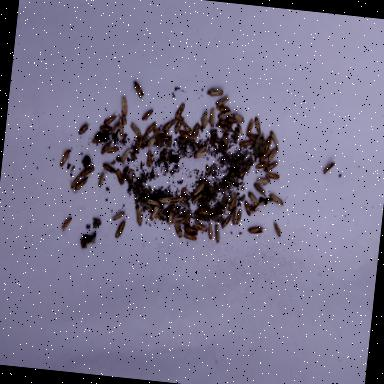pbw: (131, 80, 146, 100), (322, 155, 336, 176), (178, 120, 194, 138), (116, 112, 126, 140), (69, 172, 81, 194), (268, 194, 288, 207), (102, 160, 118, 176), (258, 147, 272, 165), (114, 220, 126, 240), (193, 145, 208, 161), (105, 110, 120, 126), (208, 108, 220, 128), (60, 148, 72, 168), (111, 208, 128, 222), (192, 180, 206, 197), (100, 138, 113, 156), (174, 103, 186, 122), (80, 164, 94, 180), (231, 108, 245, 124), (128, 122, 142, 138), (264, 159, 278, 175), (120, 96, 130, 118), (192, 120, 202, 142), (248, 225, 268, 236), (168, 194, 186, 206), (212, 224, 222, 245), (264, 135, 274, 156), (246, 191, 260, 206), (207, 88, 224, 100), (114, 169, 126, 186), (228, 192, 238, 212), (245, 118, 255, 138), (134, 207, 144, 227), (174, 115, 184, 135), (206, 223, 217, 241), (268, 146, 279, 164), (252, 182, 266, 196), (194, 220, 208, 234), (162, 118, 176, 132), (215, 94, 230, 107), (242, 200, 254, 216), (60, 216, 72, 232), (268, 131, 280, 147), (145, 121, 157, 137), (119, 148, 130, 165), (191, 192, 204, 206), (218, 108, 232, 121), (134, 135, 144, 153), (221, 215, 232, 231), (196, 207, 212, 218), (182, 225, 198, 236), (182, 232, 198, 243), (238, 139, 255, 149), (272, 220, 282, 237), (78, 122, 90, 136), (178, 130, 192, 142), (231, 202, 238, 225), (104, 146, 120, 156), (146, 148, 154, 168), (201, 110, 209, 130), (142, 109, 154, 122), (173, 225, 184, 239), (150, 205, 159, 222), (254, 116, 262, 135), (174, 216, 186, 228), (110, 122, 119, 138), (87, 137, 105, 145), (256, 177, 270, 187), (146, 198, 160, 208), (255, 160, 269, 170), (218, 119, 234, 127), (224, 116, 240, 124), (158, 196, 174, 204), (98, 172, 106, 188), (99, 125, 113, 134), (147, 134, 156, 148), (167, 210, 174, 228), (265, 172, 280, 180), (120, 111, 128, 126), (122, 174, 134, 184), (236, 208, 243, 225), (215, 124, 229, 132), (216, 106, 230, 114), (235, 124, 244, 136), (248, 134, 259, 142), (163, 135, 173, 142)
